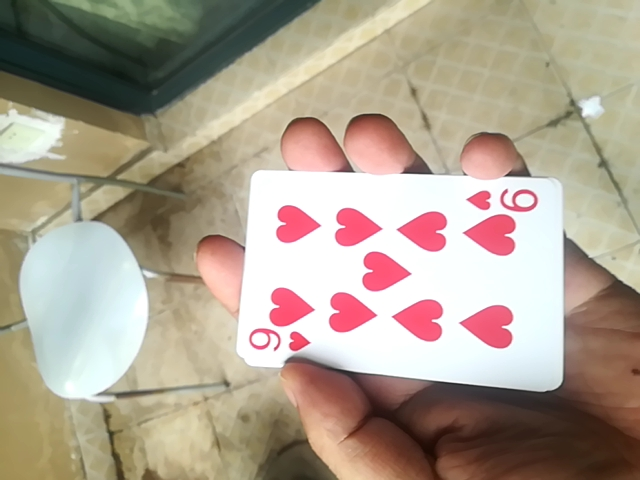hx 9: (239, 163, 564, 391)
